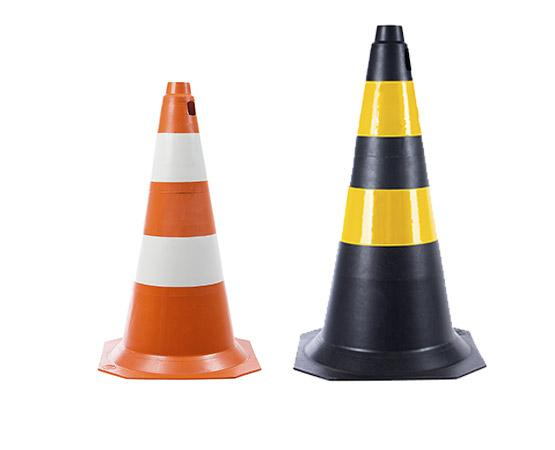traffic_cone: (292, 23, 487, 381), (97, 80, 262, 380)
